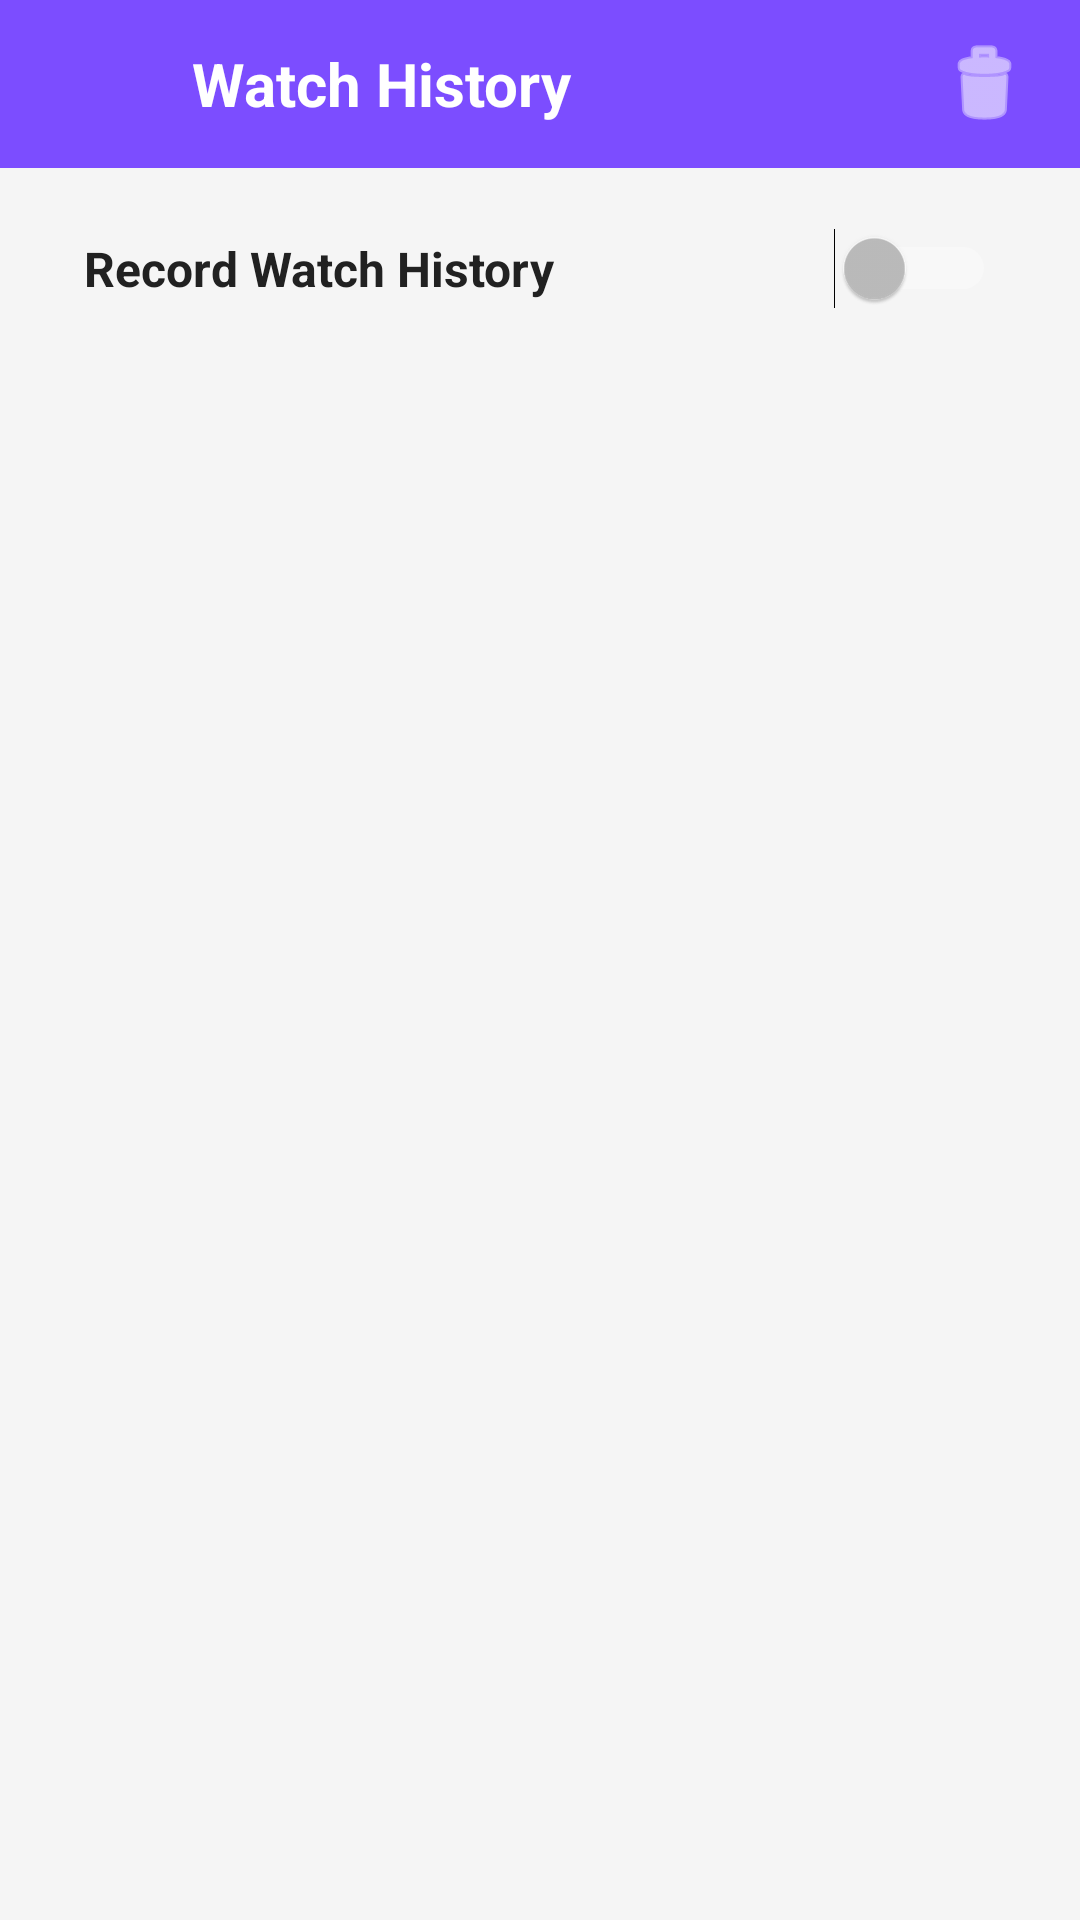

Where icons sit on this 1080 × 1920 app screen, as (left=x1, top=y1, right=x2, bottom=y2):
Clear History: (left=958, top=45, right=1011, bottom=120)
